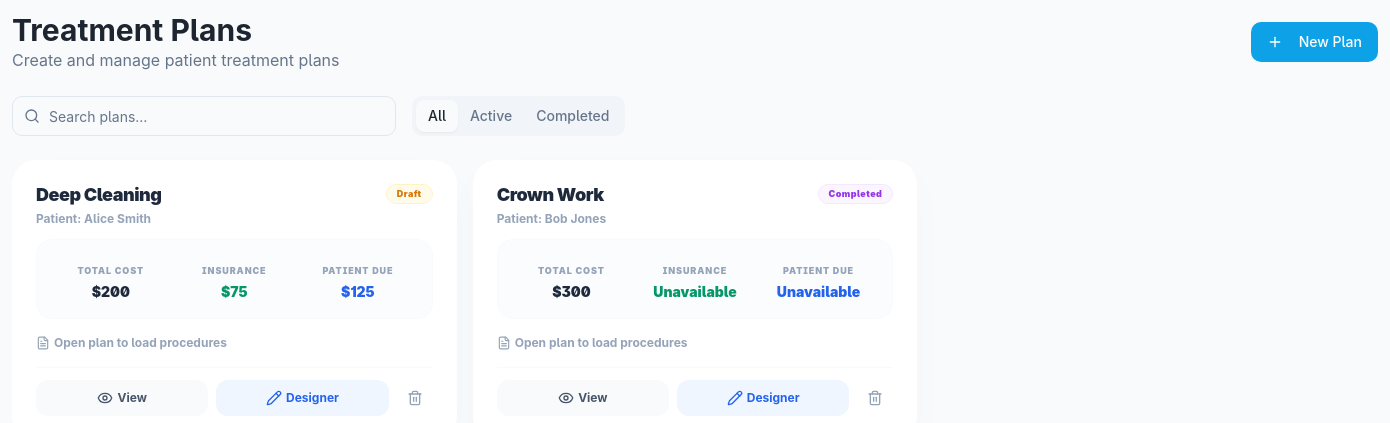
Test: TreatmentPlans Page › renders real mapped patient names, searches, and filters backend statuses
The image size is (1390, 423).
Expected: the text "Deep Cleaning" is shown, [36,184,162,206]
Expected: the text "Patient: Alice Smith" is shown, [36,210,162,226]
Type "Alice" into the field with placeholder "Search plans…" at (204, 116), box [12,96,396,136]
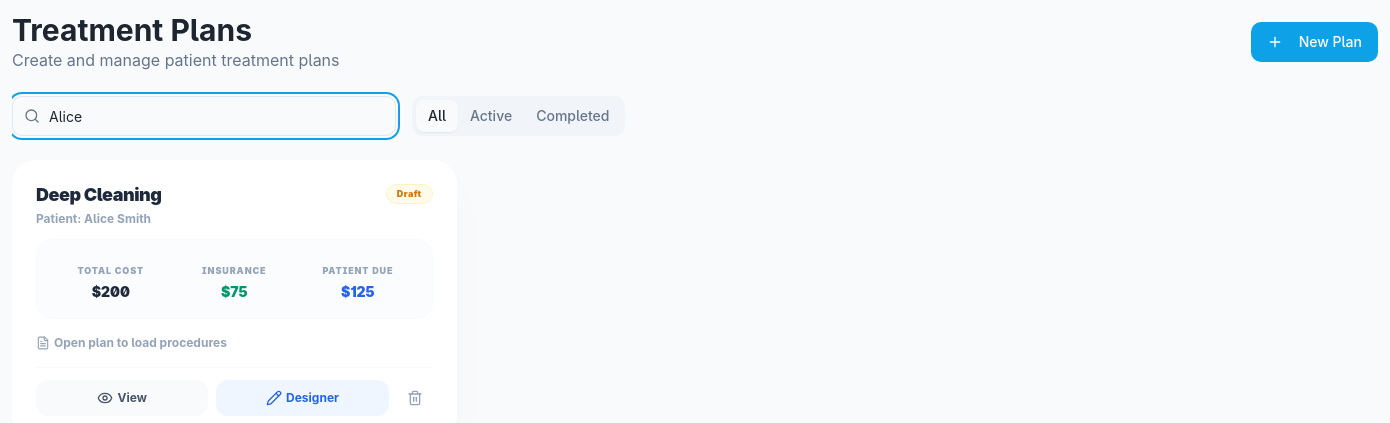
Expected: the text "Deep Cleaning" is shown, [36,184,162,206]
Now the text "Crown Work" is gone
Clear the field with placeholder "Search plans…" at (204, 116), box [12,96,396,136]
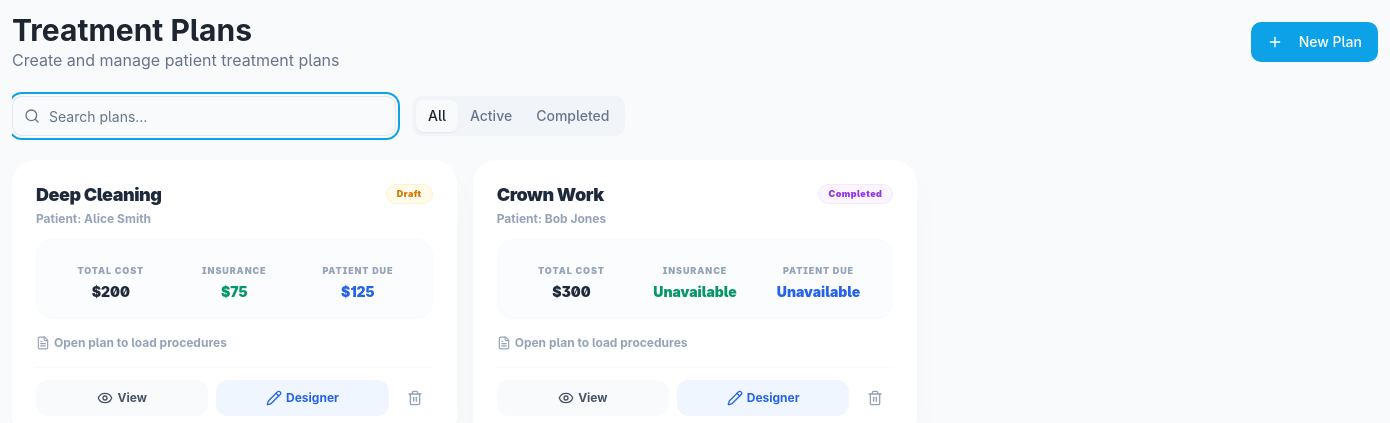
Click the tab "Completed" at (573, 116), box [524,100,622,132]
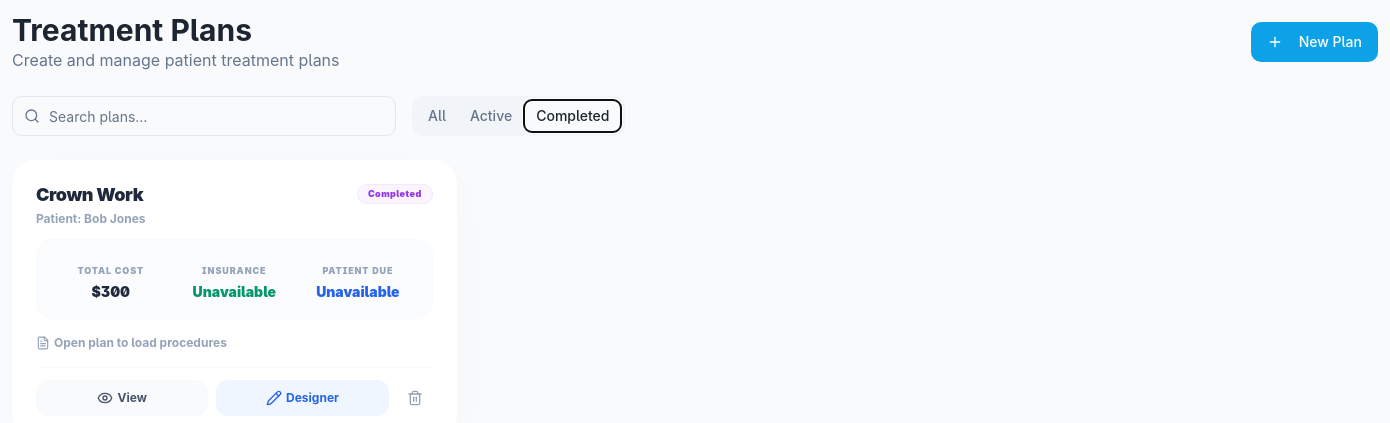
Now the text "Crown Work" is shown, box [36,184,146,206]
Now the text "Deep Cleaning" is gone
